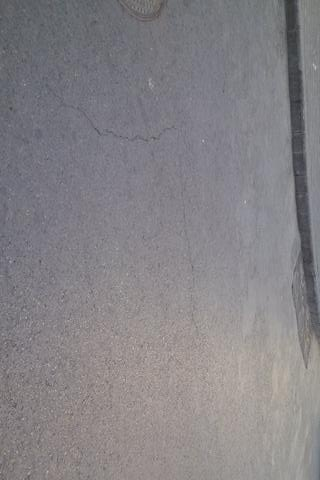A: (79, 106, 191, 153)
